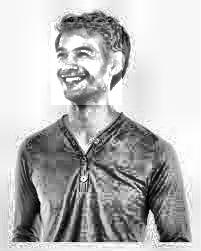happy: (52, 23, 123, 106)
